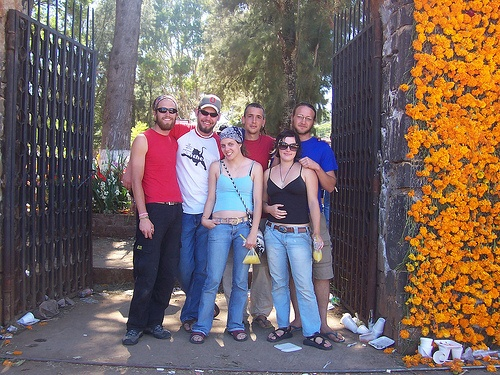head: (289, 102, 319, 140), (219, 124, 245, 166), (195, 95, 222, 134), (273, 130, 299, 167), (154, 97, 179, 132), (241, 101, 266, 136)
person: (185, 124, 266, 342), (120, 91, 183, 345), (259, 128, 326, 348), (173, 93, 222, 332), (301, 122, 336, 339), (284, 100, 336, 190), (237, 99, 274, 169)
